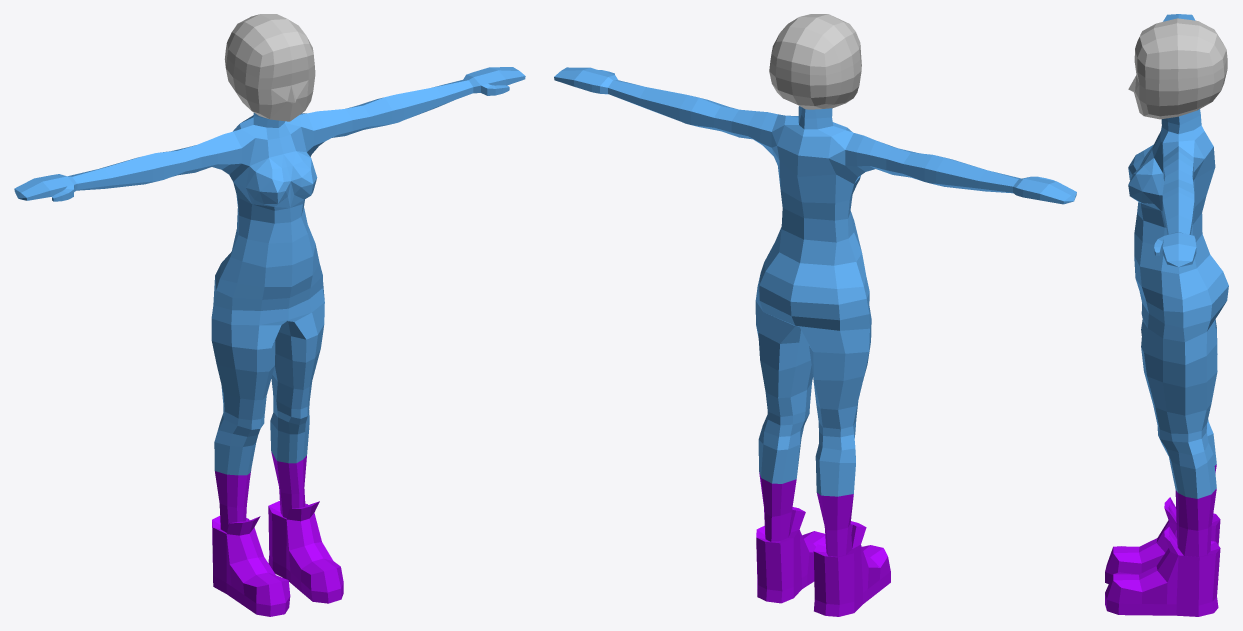
File: slime_girl2.obj
3 renders of one model, left to right at view 1: azimuth 30°, elevation 25°; view 2: azimuth 150°, elevation 25°; view 3: azimuth 270°, elevation 25°, orthographic. The views are drawn at different scales.
Visible parts, largest first — view 1: Cylinder, Cube; view 2: Cylinder, Cube; view 3: Cylinder, Cube.
Boxes of the visible parts, <box> form: Cylinder: <box>14,67,525,616</box>; Cube: <box>224,14,315,121</box>; Cylinder: <box>554,67,1076,616</box>; Cube: <box>769,14,861,109</box>; Cylinder: <box>1105,14,1228,616</box>; Cube: <box>1128,18,1227,119</box>.
Bounding box in the file's own units: 2.35 × 2.5 × 0.4928.
Materials: 2 (2 with a texture image).
